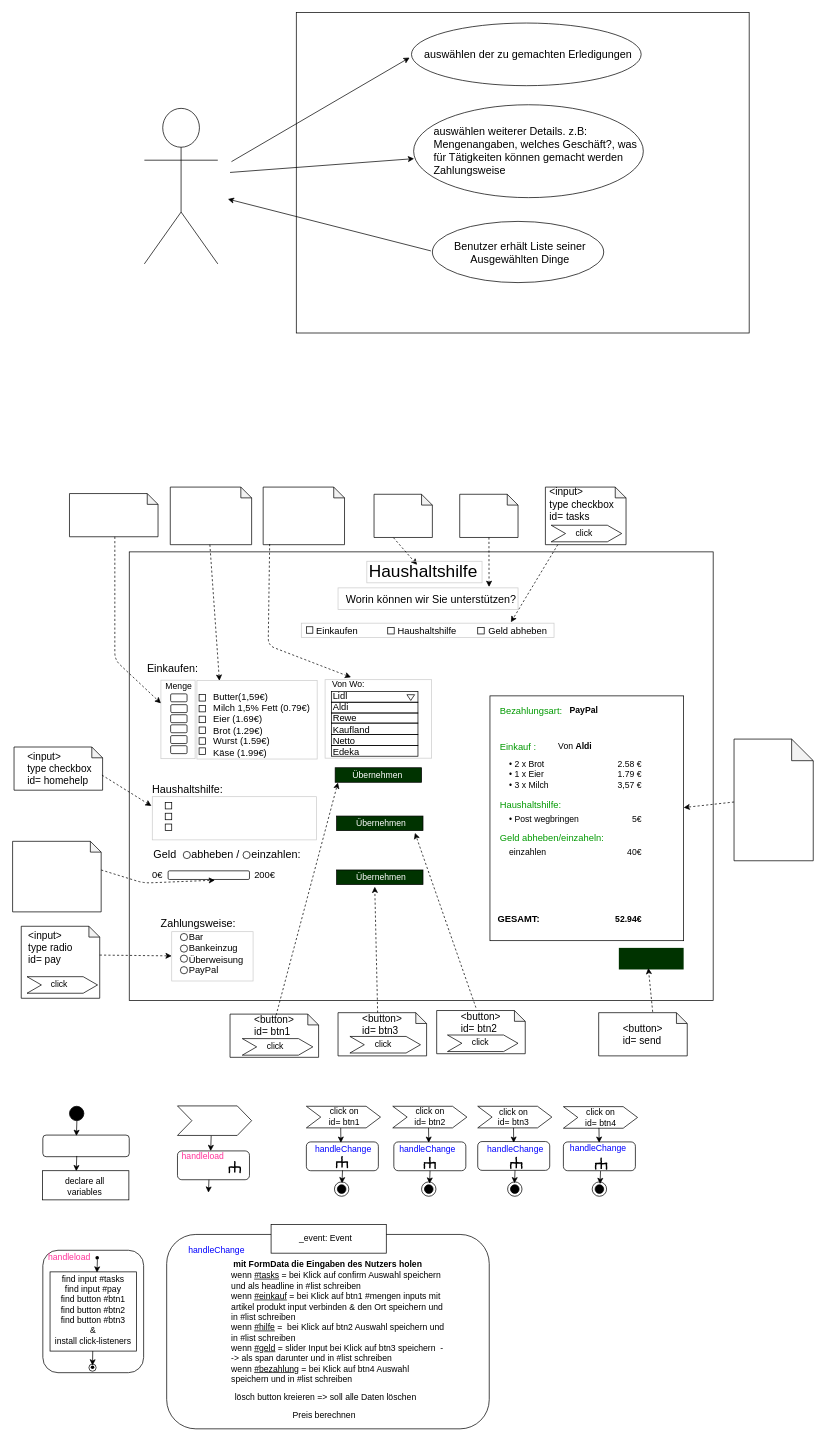
Some shapes in this 826 by 1441 pixel diagram are drawn without their labels. Each missing label, with the centre of its shape:
"<div> id=list" belongs at [773,799].
"<h1>" belongs at [402,515].
"<input> type checkbox id= grocery" belongs at [211,515].
"<input> type datalist id= groceryplace" belongs at [303,515].
"<input> type number id= groceryamount" belongs at [113,515].
"<input> type slider min = 0 max = 200 id= money" belongs at [56,876].
"<p>" belongs at [488,515].
"Abschicken" belongs at [650,958].
"install load-listener" belongs at [85,1145].
"load on window" belongs at [214,1120].
"Rasen mähen (10€) putzen (20€) Post wegbringen/abholen (5€)" belongs at [234,818].
"User" belongs at [181,186].
